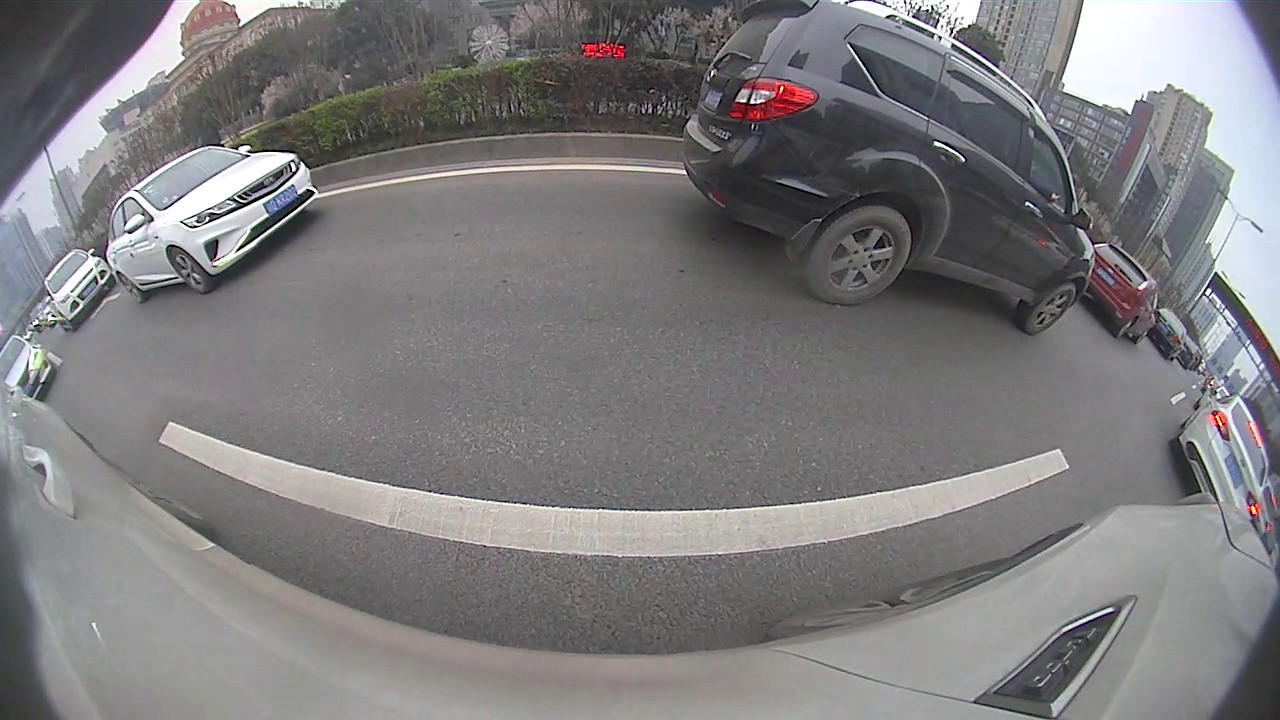car: (680, 1, 1095, 336), (106, 144, 321, 303), (1167, 393, 1270, 523), (1087, 243, 1160, 346), (38, 249, 118, 330), (1, 332, 57, 406), (1148, 307, 1187, 362)
front: (1022, 281, 1077, 337), (165, 245, 211, 294)
rear: (802, 205, 914, 306), (118, 274, 148, 304), (1115, 317, 1136, 339)
